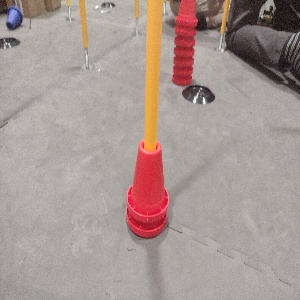Blue_1: (4, 5, 25, 30)
Red_2: (124, 138, 170, 238)
